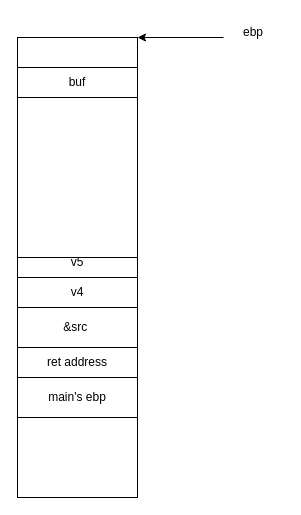
The diagram is 301 pixels wide and 515 high, and some of its shapes have lost their labels. The box of each missing label's shape, as (x1, y1, x2, y2) in pixels:
adress: (16, 36, 138, 68)
desk: (16, 416, 138, 498)
src 0x100: (16, 86, 138, 258)
